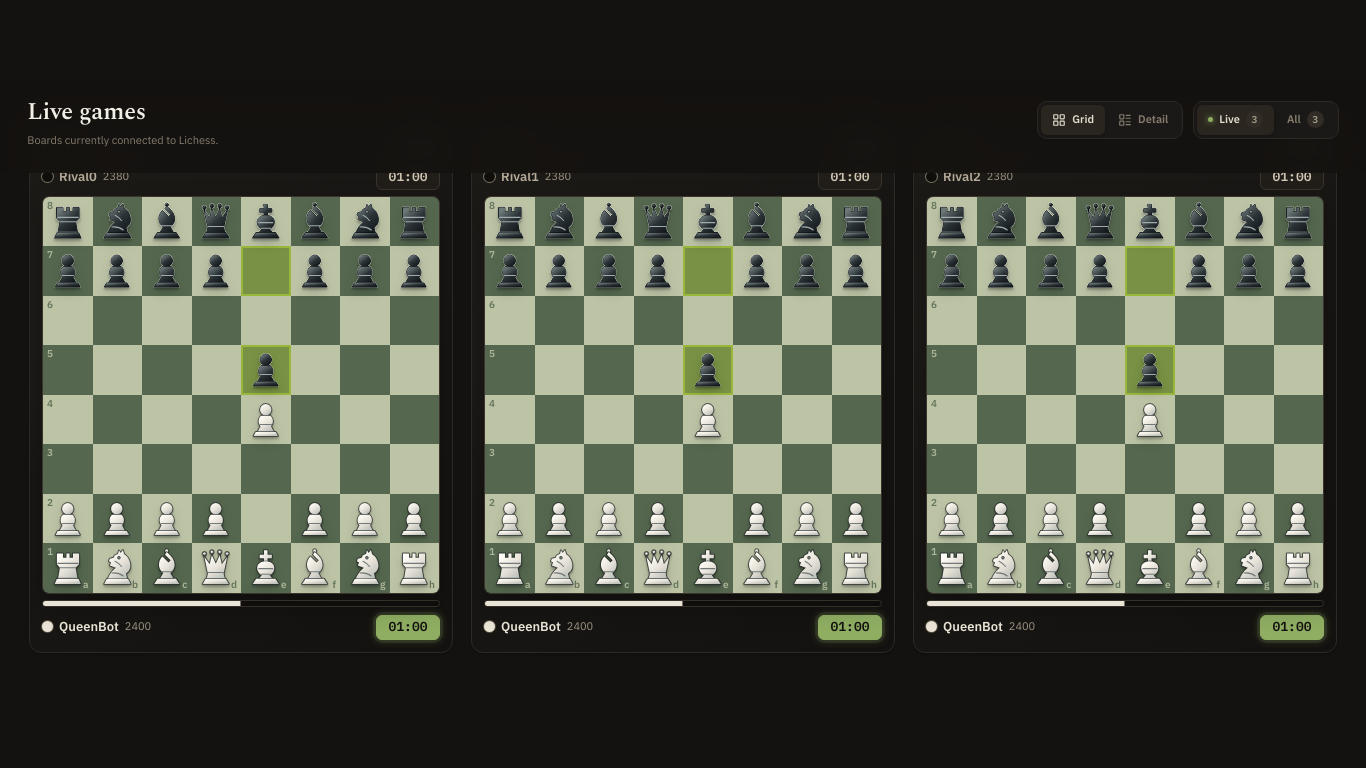
Test case: choosing a game, and getting back out of it › focuses the game whose tile was clicked
Step 1. Click the button named "Focus on QueenBot versus Rival2" → {"x": 1125, "y": 387}, box [914, 122, 1336, 652]
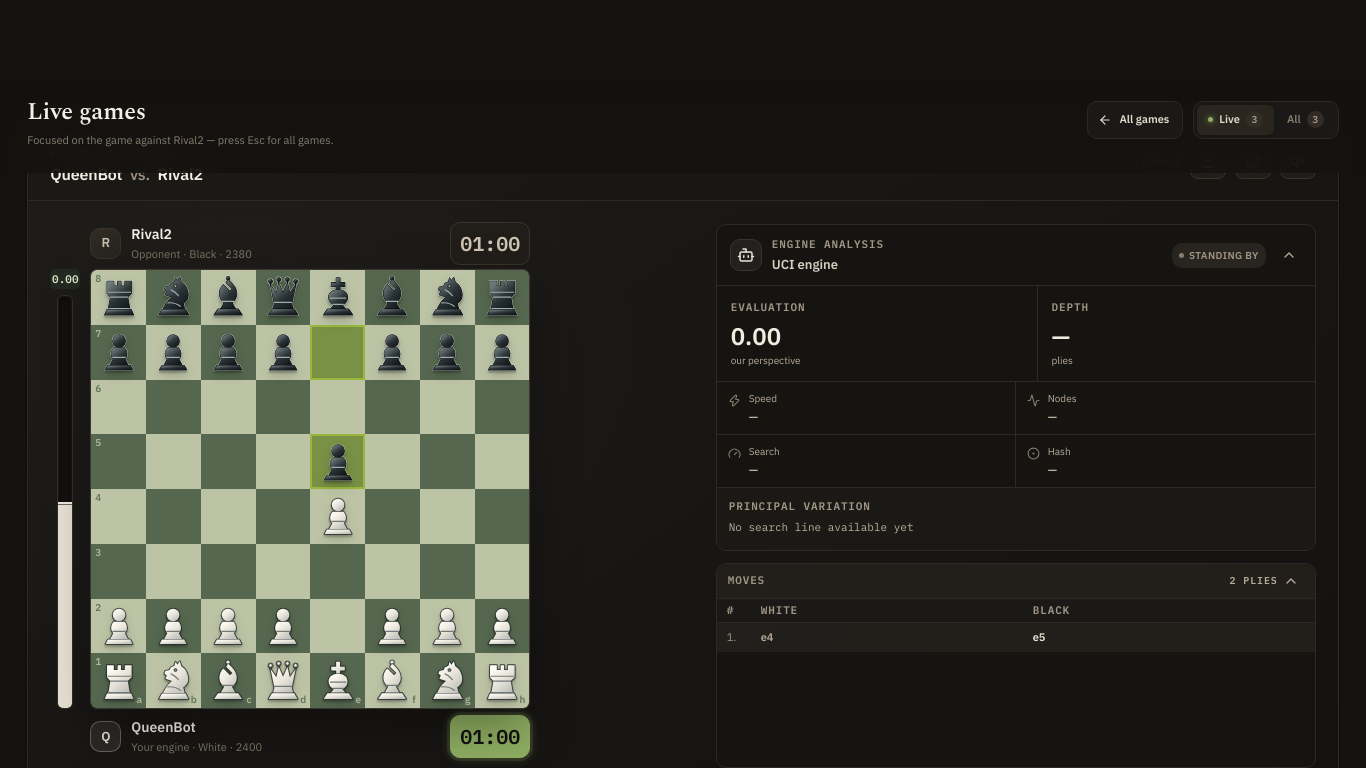
Check: the element with class "games-grid" is gone
Check: the heading "QueenBot vs. Rival2" is shown, box [50, 164, 203, 184]
